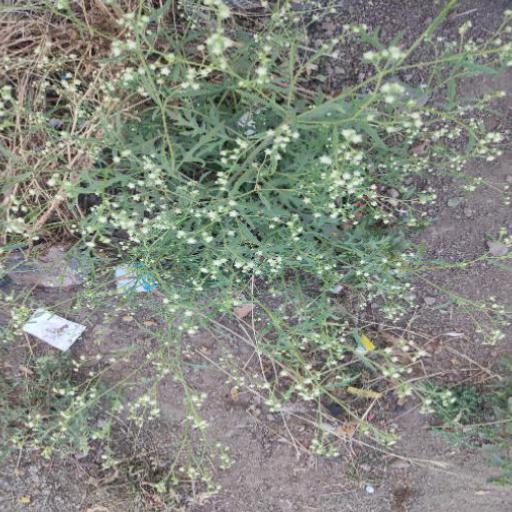weed: (18, 8, 497, 505)
